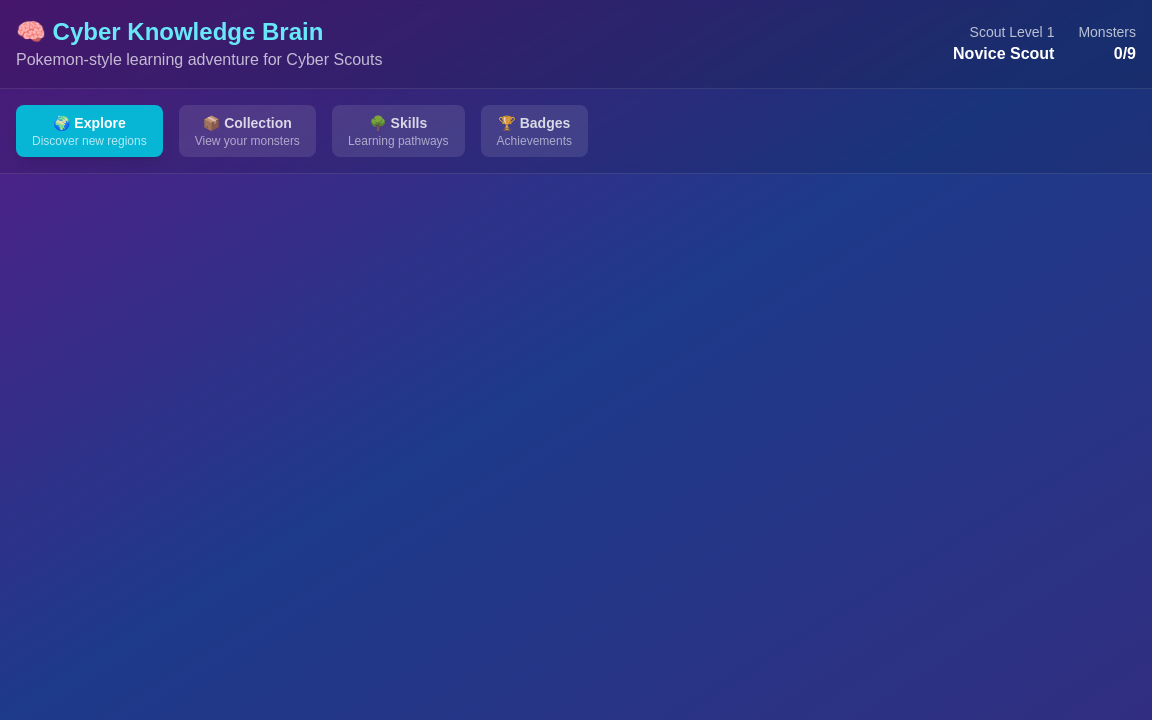
Test case: 🧠 CyberKnowledgeBrainGame - Basic Functionality › handles navigation to skills tab
The image size is (1152, 720).
# Click on skills tab
Click the text "🌳 Skills" at (398, 123), box top-left (369, 115), bottom-right (427, 131)
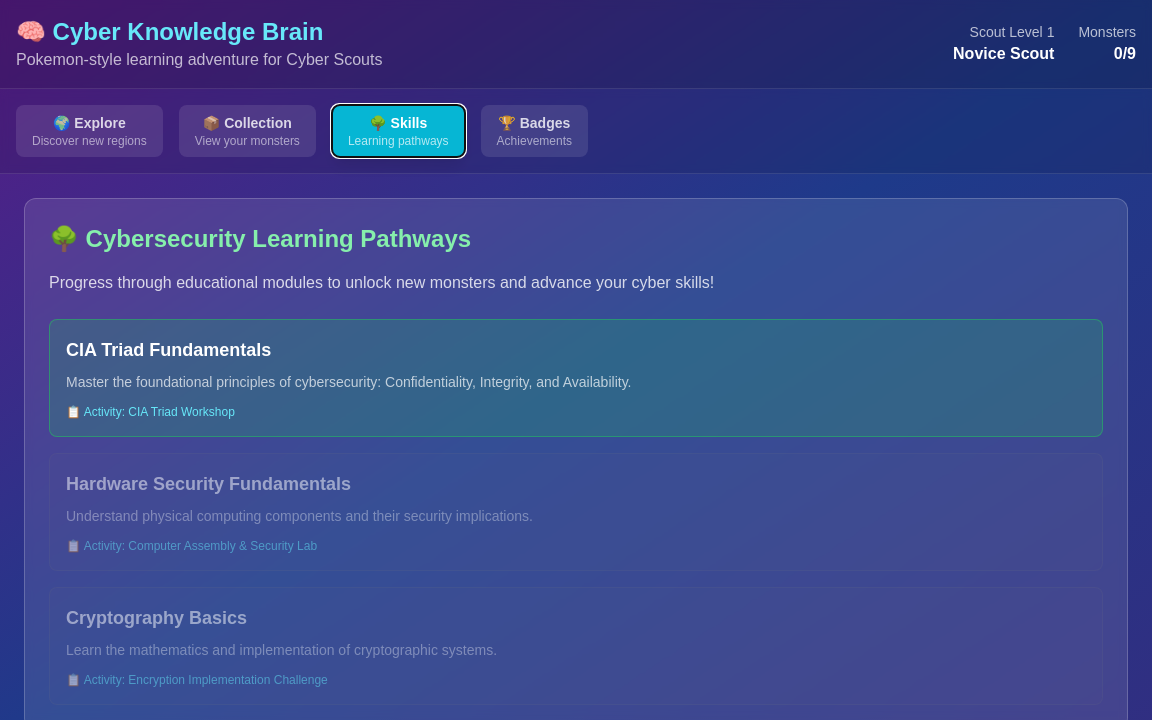
Expected: the heading "🌳 Cybersecurity Learning Pathways" is shown, top-left (49, 225), bottom-right (471, 252)
